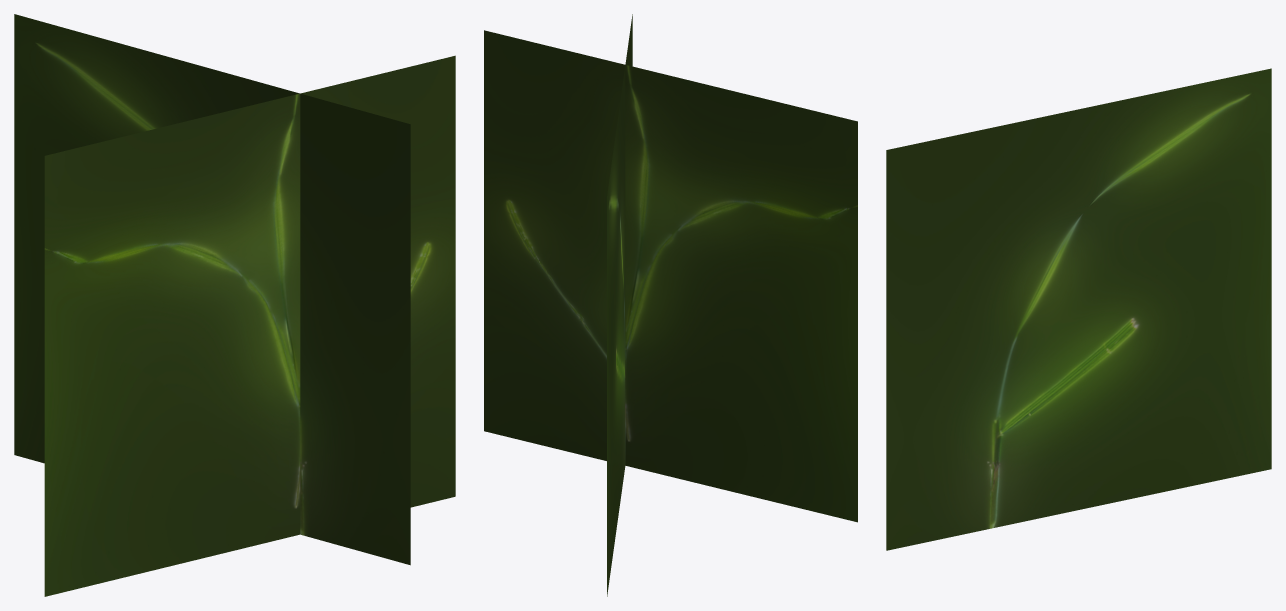
File: grass.glb
The picture shows the model from 3 angles, left to right: view 1: azimuth 30°, elevation 25°; view 2: azimuth 150°, elevation 25°; view 3: azimuth 270°, elevation 25°; orthographic projection. The views are drawn at different scales.
Visible parts, largest first — view 1: Grass; view 2: Grass; view 3: Grass.
Part boxes in pixels (box(x1,y1,x2,y2)): Grass: box(14, 14, 455, 596); Grass: box(484, 14, 857, 596); Grass: box(886, 68, 1271, 550).
Size of the model in its own units: 0.6262 by 0.6421 by 0.5598.
1 material, 1 textured.
